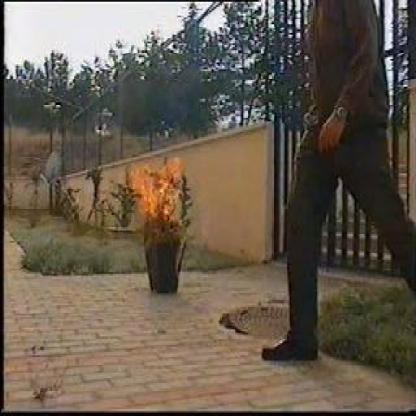foggia-v2-map80-epoch100 - v1 4323: (134, 153, 182, 223)
